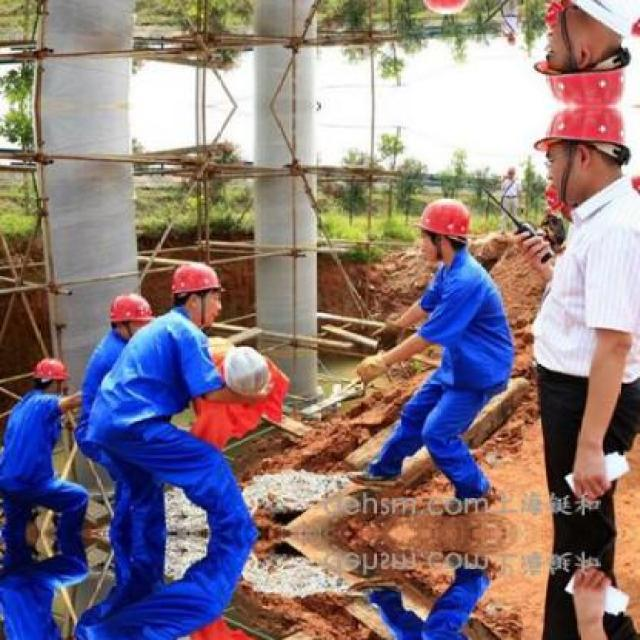helmet: (527, 11, 630, 106), (527, 107, 630, 201), (418, 196, 472, 265), (167, 260, 221, 320), (107, 292, 151, 340), (33, 352, 65, 399), (417, 0, 472, 17), (504, 34, 518, 49), (504, 164, 518, 178)
